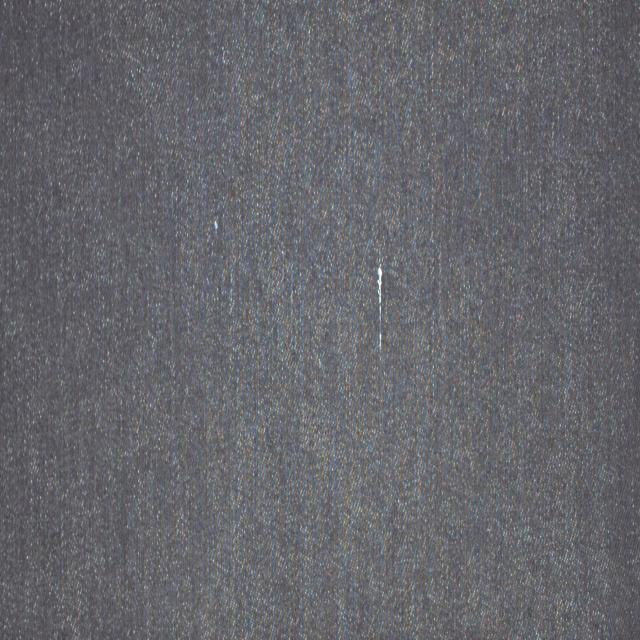Knot: (377, 264, 383, 352)
